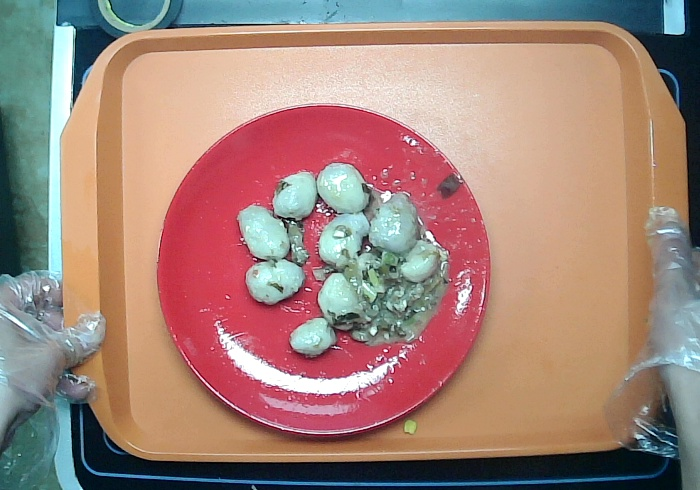HZYJPL-Hong_Se_Yuan_Pan: (143, 97, 493, 445)
